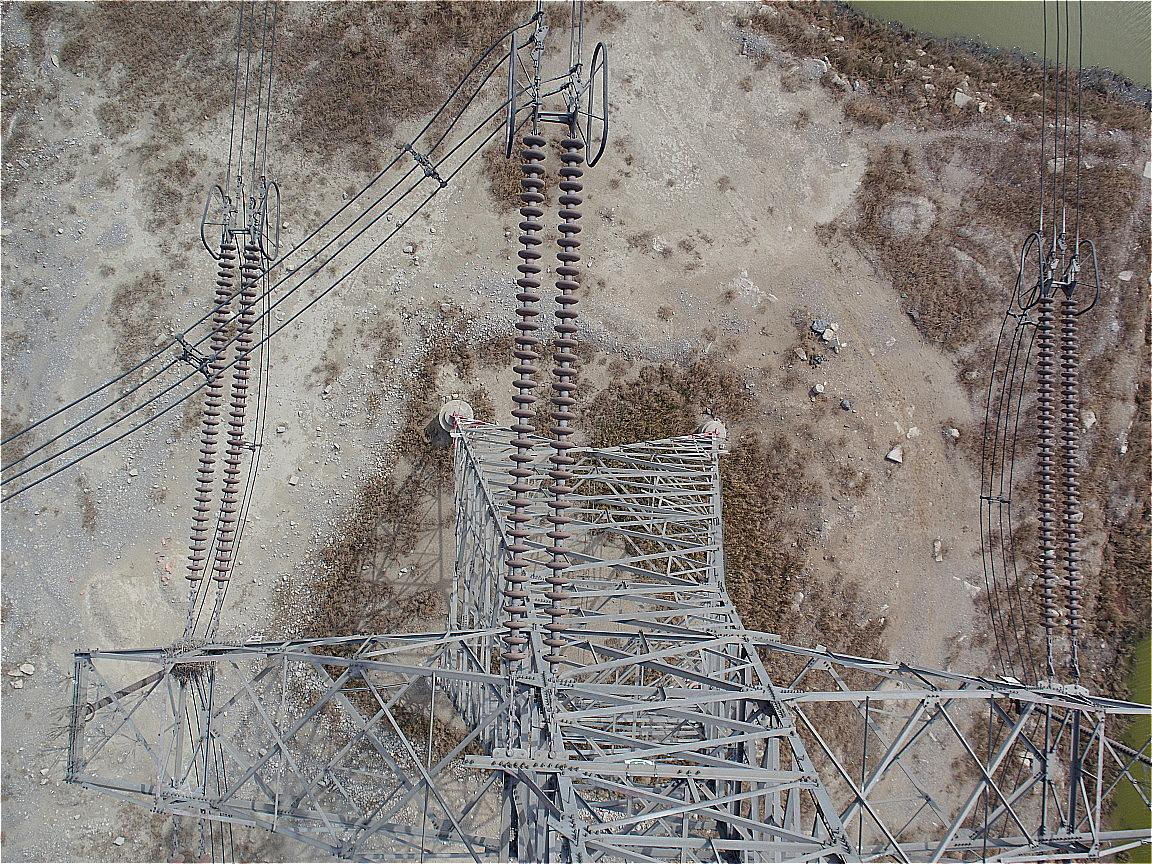insultor1: (503, 136, 589, 663), (183, 242, 265, 587), (1036, 295, 1086, 640)
